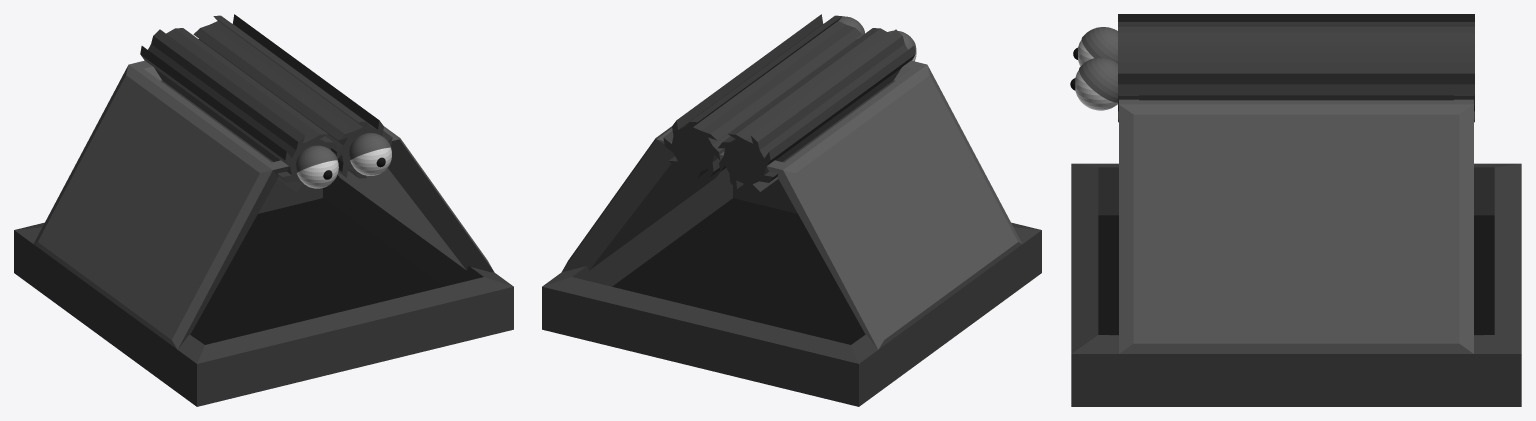
Rendered from Shredder.fbx.
The picture shows the model from 3 angles, left to right: view 1: azimuth 30°, elevation 25°; view 2: azimuth 150°, elevation 25°; view 3: azimuth 270°, elevation 25°; orthographic projection. The views are drawn at different scales.
Visible parts, largest first — view 1: body, saw_r, saw_l, eye_r, eye_l; view 2: body, saw_r, saw_l; view 3: body, saw_l, saw_r, eye_l.
Part boxes in pixels (bbox=[...]): body: bbox=[14, 60, 513, 406]; saw_r: bbox=[140, 28, 338, 191]; saw_l: bbox=[193, 14, 392, 178]; eye_r: bbox=[297, 160, 338, 188]; eye_l: bbox=[350, 147, 391, 175]; body: bbox=[542, 60, 1041, 406]; saw_r: bbox=[718, 28, 916, 191]; saw_l: bbox=[663, 14, 864, 178]; body: bbox=[1071, 95, 1521, 406]; saw_l: bbox=[1079, 45, 1474, 122]; saw_r: bbox=[1081, 14, 1474, 63]; eye_l: bbox=[1070, 70, 1117, 110].
Size of the model in its own units: 1.24 by 0.8476 by 1.24.
Materials: 1 (1 with a texture image).
